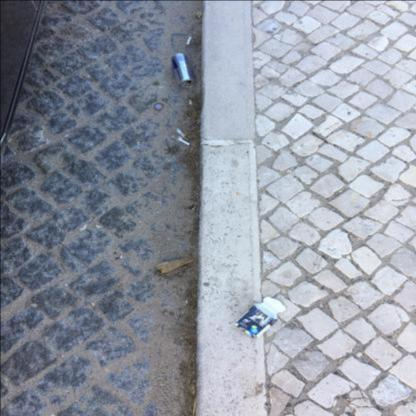Bottle: (154, 102, 164, 109), (188, 203, 197, 210), (195, 12, 202, 18)
Can: (171, 54, 196, 89)
Carton: (235, 296, 286, 338)
Cigarette: (177, 138, 190, 146), (186, 36, 192, 45)
Pop tab: (183, 82, 189, 88)
